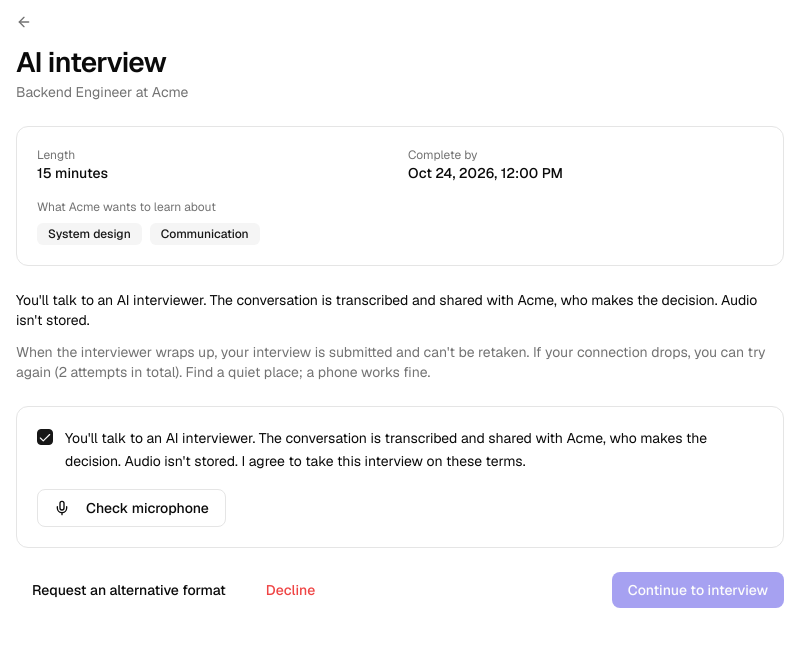
ScreeningInterviewView intro (SIT-053, SI-REQ-020) › shows the microphone failure
Click the button "Check microphone" at (131, 508), box [37,488,226,526]
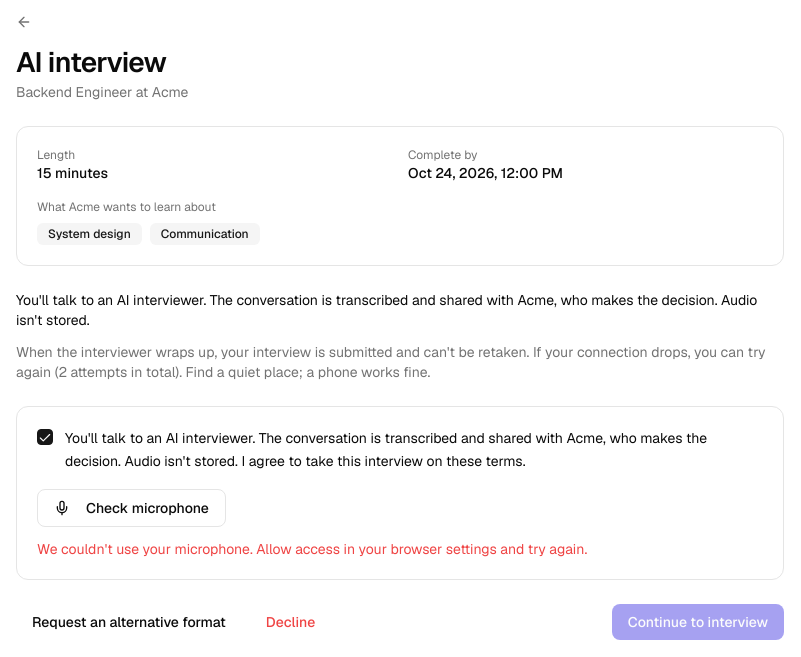
Expected: the button "Continue to interview" is disabled, [612,604,784,640]
Expected: the text "couldn't use your microphone" is shown, [37,540,587,558]
